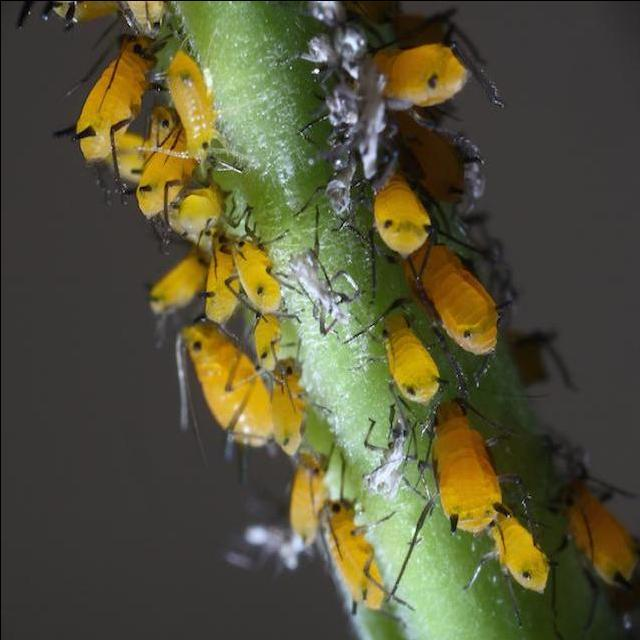aphid: (61, 17, 160, 173), (308, 469, 412, 617), (406, 230, 507, 373), (168, 326, 279, 452), (402, 408, 508, 538), (142, 36, 221, 174), (358, 300, 450, 402), (381, 28, 481, 112), (129, 105, 200, 219), (561, 486, 640, 588), (219, 222, 292, 318), (486, 512, 551, 598), (146, 248, 201, 316), (200, 236, 242, 324), (271, 361, 306, 454), (288, 460, 325, 535)
